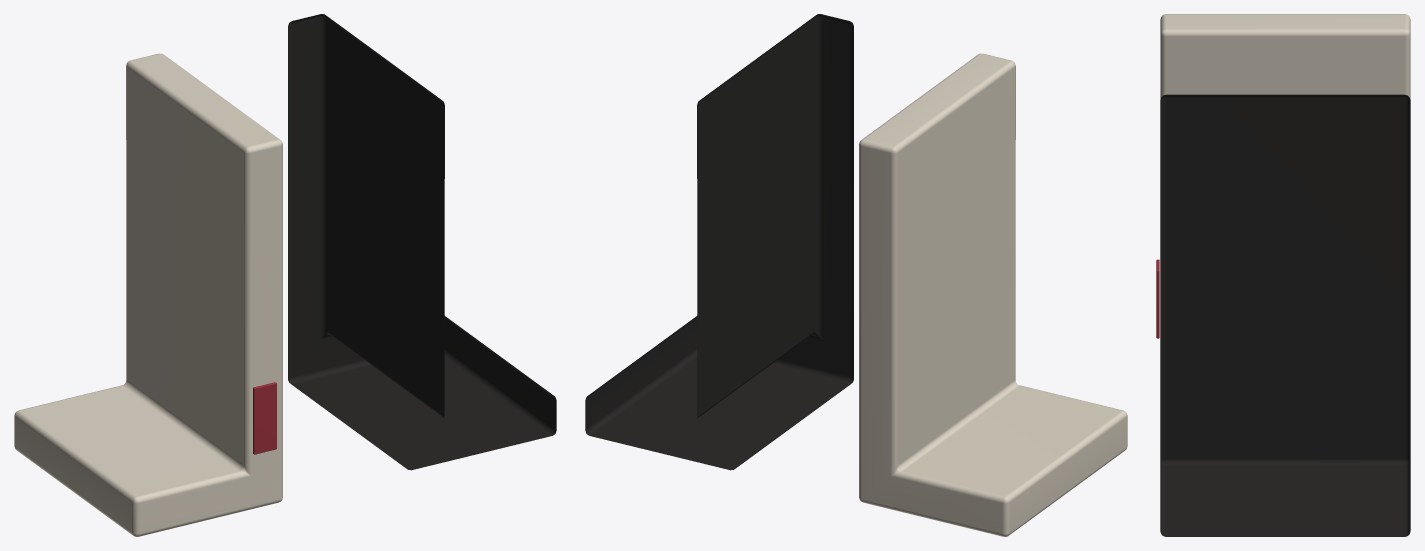
File: VSV-025.glb
The picture shows the model from 3 angles, left to right: view 1: azimuth 30°, elevation 25°; view 2: azimuth 150°, elevation 25°; view 3: azimuth 270°, elevation 25°; orthographic projection. The views are drawn at different scales.
Parts seen in each view (by area): view 1: VSV-025_bookend__bookend, VSV-025_bookend__bookend.001, VSV-025_bookend__inlay; view 2: VSV-025_bookend__bookend, VSV-025_bookend__bookend.001; view 3: VSV-025_bookend__bookend.001, VSV-025_bookend__bookend, VSV-025_bookend__inlay.
Boxes of the visible parts, box(x1,y1,x2,y2) form: VSV-025_bookend__bookend: box(14, 53, 282, 536); VSV-025_bookend__bookend.001: box(288, 14, 556, 470); VSV-025_bookend__inlay: box(253, 382, 276, 454); VSV-025_bookend__bookend: box(859, 53, 1127, 536); VSV-025_bookend__bookend.001: box(585, 14, 853, 470); VSV-025_bookend__bookend.001: box(1160, 94, 1410, 536); VSV-025_bookend__bookend: box(1160, 14, 1410, 99); VSV-025_bookend__inlay: box(1156, 259, 1159, 338).
Bounding box in the file's own units: 2.2 × 1.8 × 1.12.
